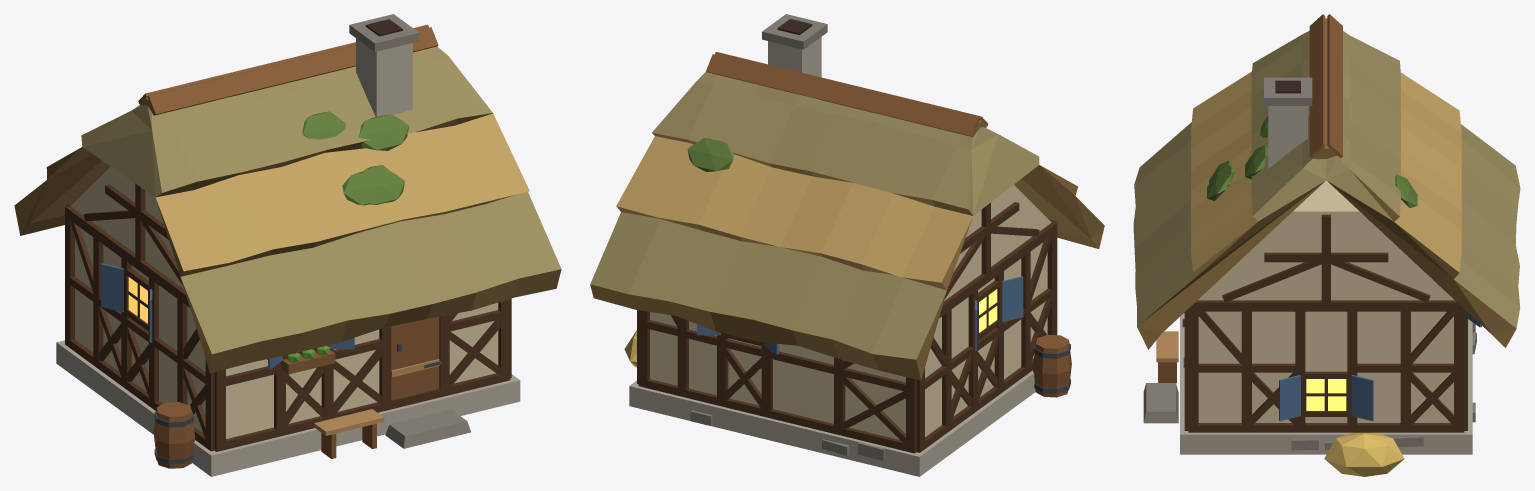
The model's file is Dorf_Bauernhaus_B.fbx.
3 views of the same model, side by side, from view 1: azimuth 30°, elevation 25°; view 2: azimuth 150°, elevation 25°; view 3: azimuth 270°, elevation 25° (orthographic). The views are drawn at different scales.
Visible parts, largest first — view 1: Dorf_Bauernhaus_B; view 2: Dorf_Bauernhaus_B; view 3: Dorf_Bauernhaus_B.
Boxes of the visible parts, x1,y1,x2,y2 form: Dorf_Bauernhaus_B: (14, 14, 561, 476); Dorf_Bauernhaus_B: (590, 14, 1104, 476); Dorf_Bauernhaus_B: (1133, 14, 1520, 476).
Size of the model in its own units: 6.73 by 5.77 by 6.09.
